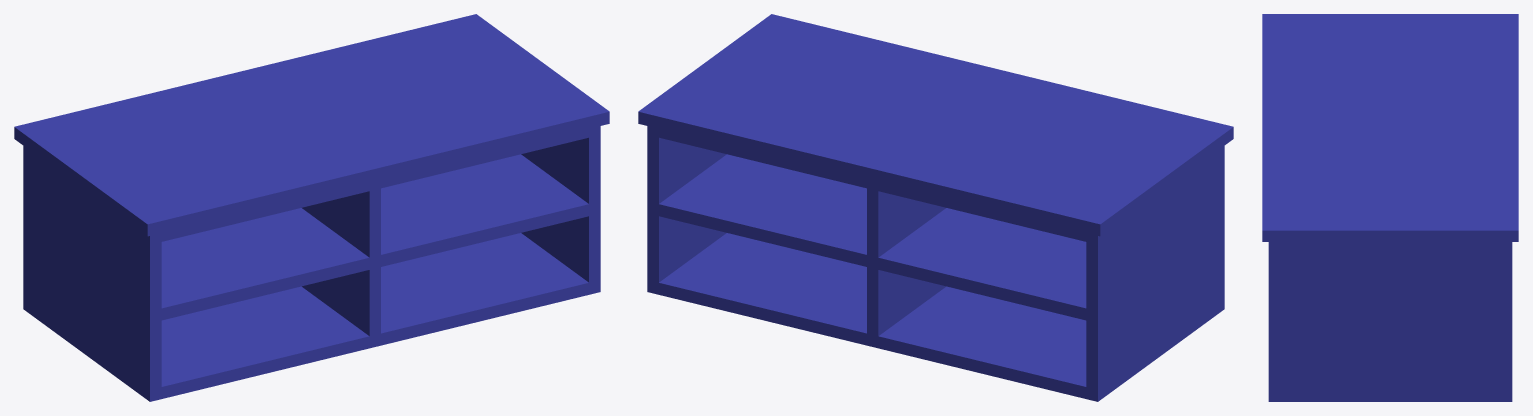
The model's file is tablePrep_2x1-5x4.FBX.
3 views of the same model, side by side, from view 1: azimuth 30°, elevation 25°; view 2: azimuth 150°, elevation 25°; view 3: azimuth 270°, elevation 25° (orthographic). The views are drawn at different scales.
Parts seen in each view (by area): view 1: tablePrep_frame, tablePrep_wood; view 2: tablePrep_frame, tablePrep_wood; view 3: tablePrep_wood, tablePrep_frame.
Boxes of the visible parts, left/top/right/bottom form: tablePrep_frame: left=23, top=126, right=600, bottom=401; tablePrep_wood: left=14, top=14, right=609, bottom=236; tablePrep_frame: left=647, top=126, right=1224, bottom=401; tablePrep_wood: left=638, top=14, right=1233, bottom=236; tablePrep_wood: left=1262, top=14, right=1518, bottom=241; tablePrep_frame: left=1268, top=242, right=1512, bottom=401.
Bounding box in the file's own units: 4 × 1.5 × 2.
